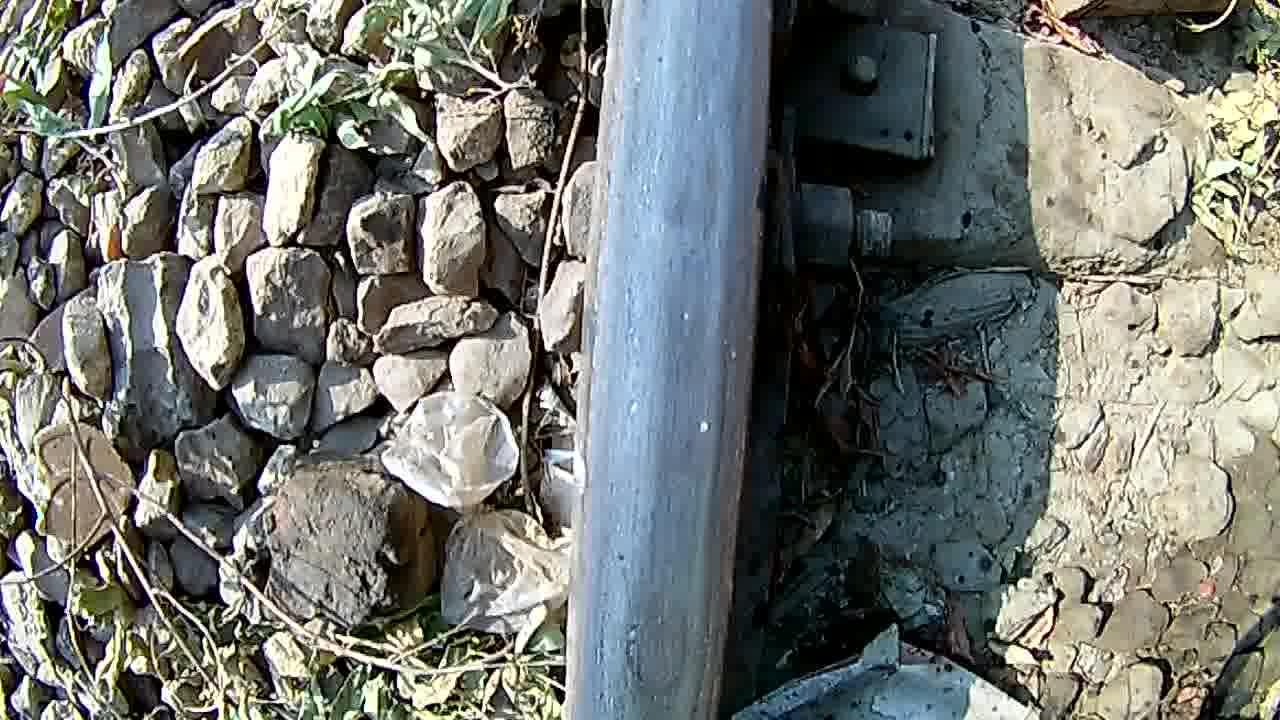bolt_missing: (588, 580, 717, 720)
